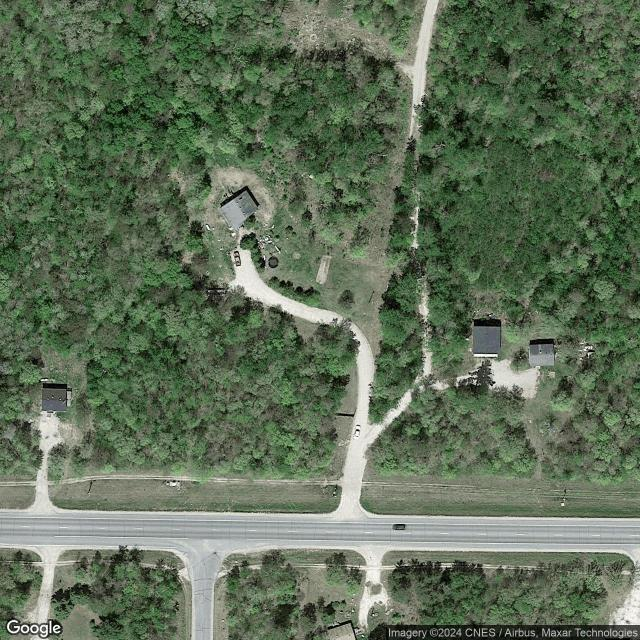Propane: (38, 376, 49, 383), (204, 223, 212, 232)
